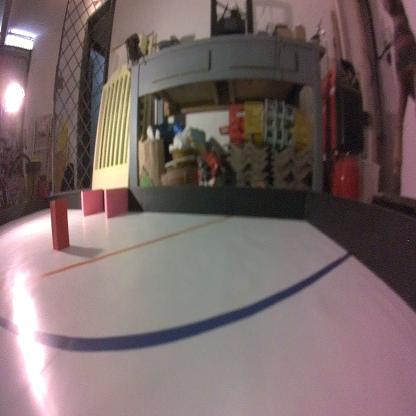magenta: (102, 184, 130, 220), (80, 188, 102, 215)
red: (49, 197, 70, 253)
